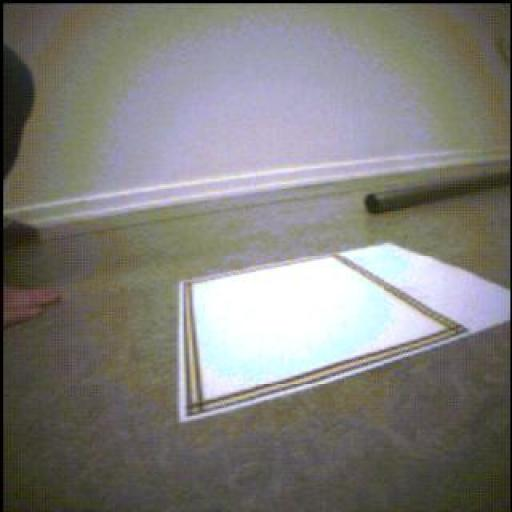Pad: (181, 244, 512, 422)
